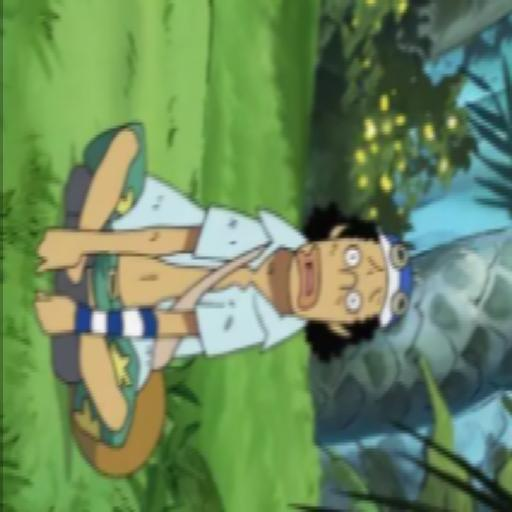Usopp: (27, 118, 430, 471)
